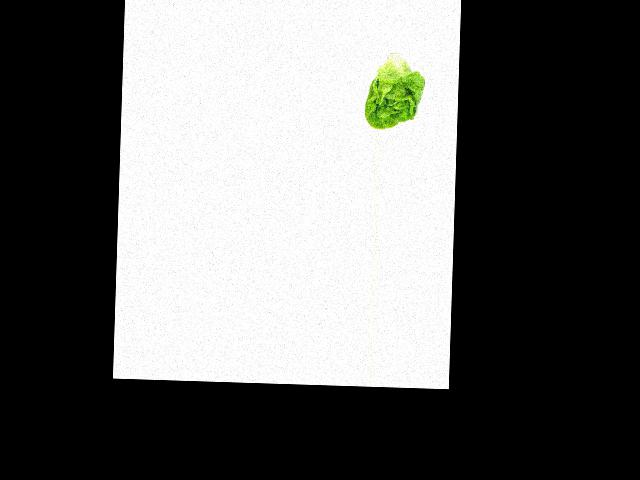lettuce: (362, 49, 430, 131)
